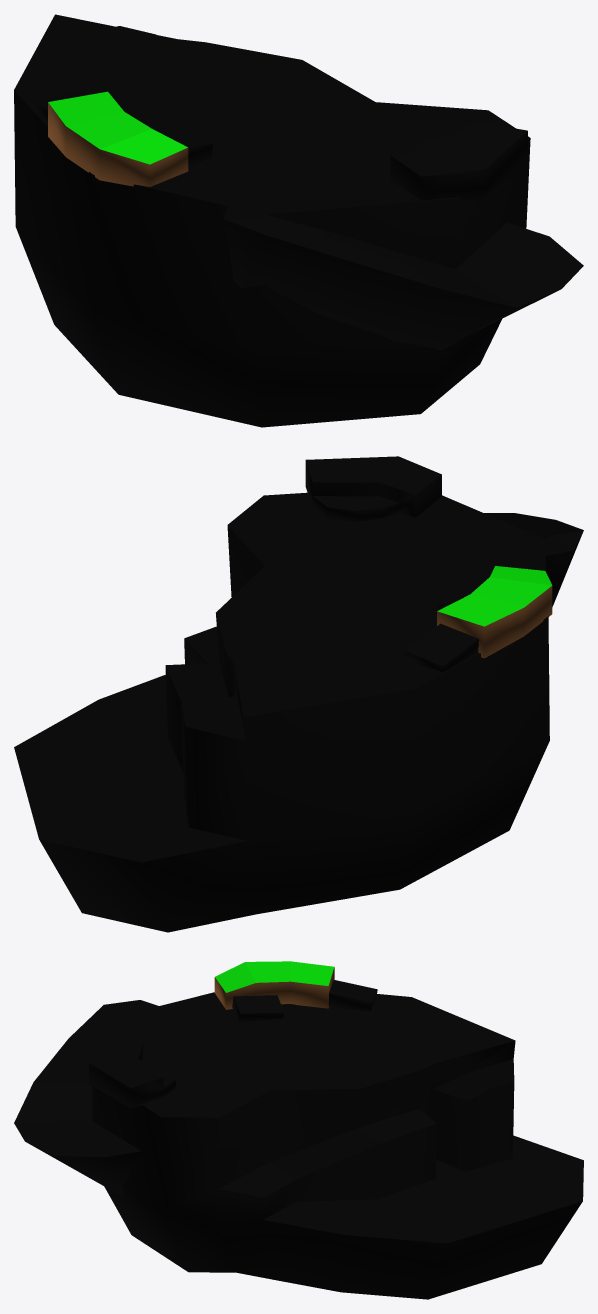
File: Island08.fbx
The picture shows the model from 3 angles, top to bottom: view 1: azimuth 30°, elevation 25°; view 2: azimuth 150°, elevation 25°; view 3: azimuth 270°, elevation 25°; orthographic projection. The views are drawn at different scales.
Visible parts, largest first — view 1: pCube12; view 2: pCube12; view 3: pCube12.
Boxes of the visible parts, box(x1,y1,x2,y2) form: pCube12: box(14, 14, 583, 427); pCube12: box(14, 456, 583, 932); pCube12: box(14, 961, 583, 1299).
Bounding box in the file's own units: 4616 × 7198 × 3143.
